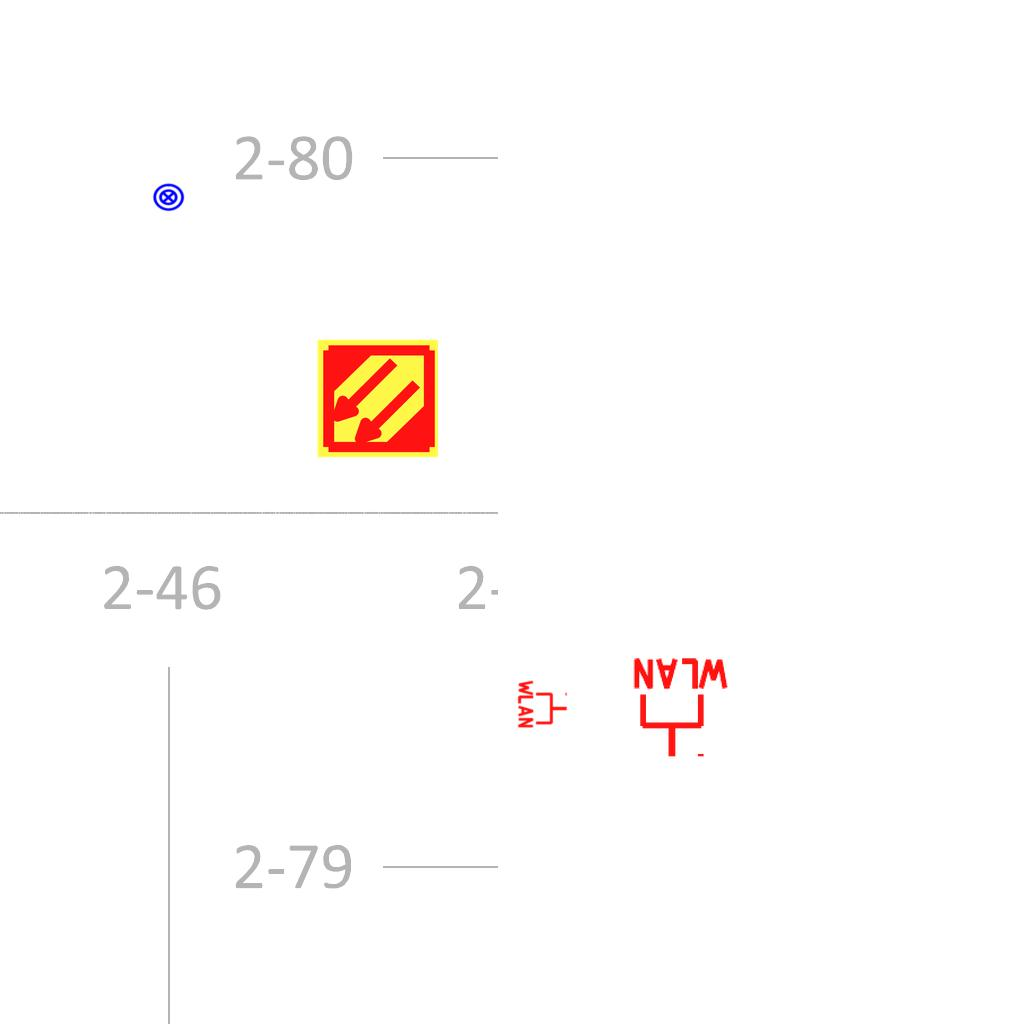ASR_Ansaugrauchmelder: (315, 336, 440, 461)
Taster_beleuchtet: (151, 180, 186, 215)
WLAN: (629, 656, 733, 761), (517, 678, 569, 730)
